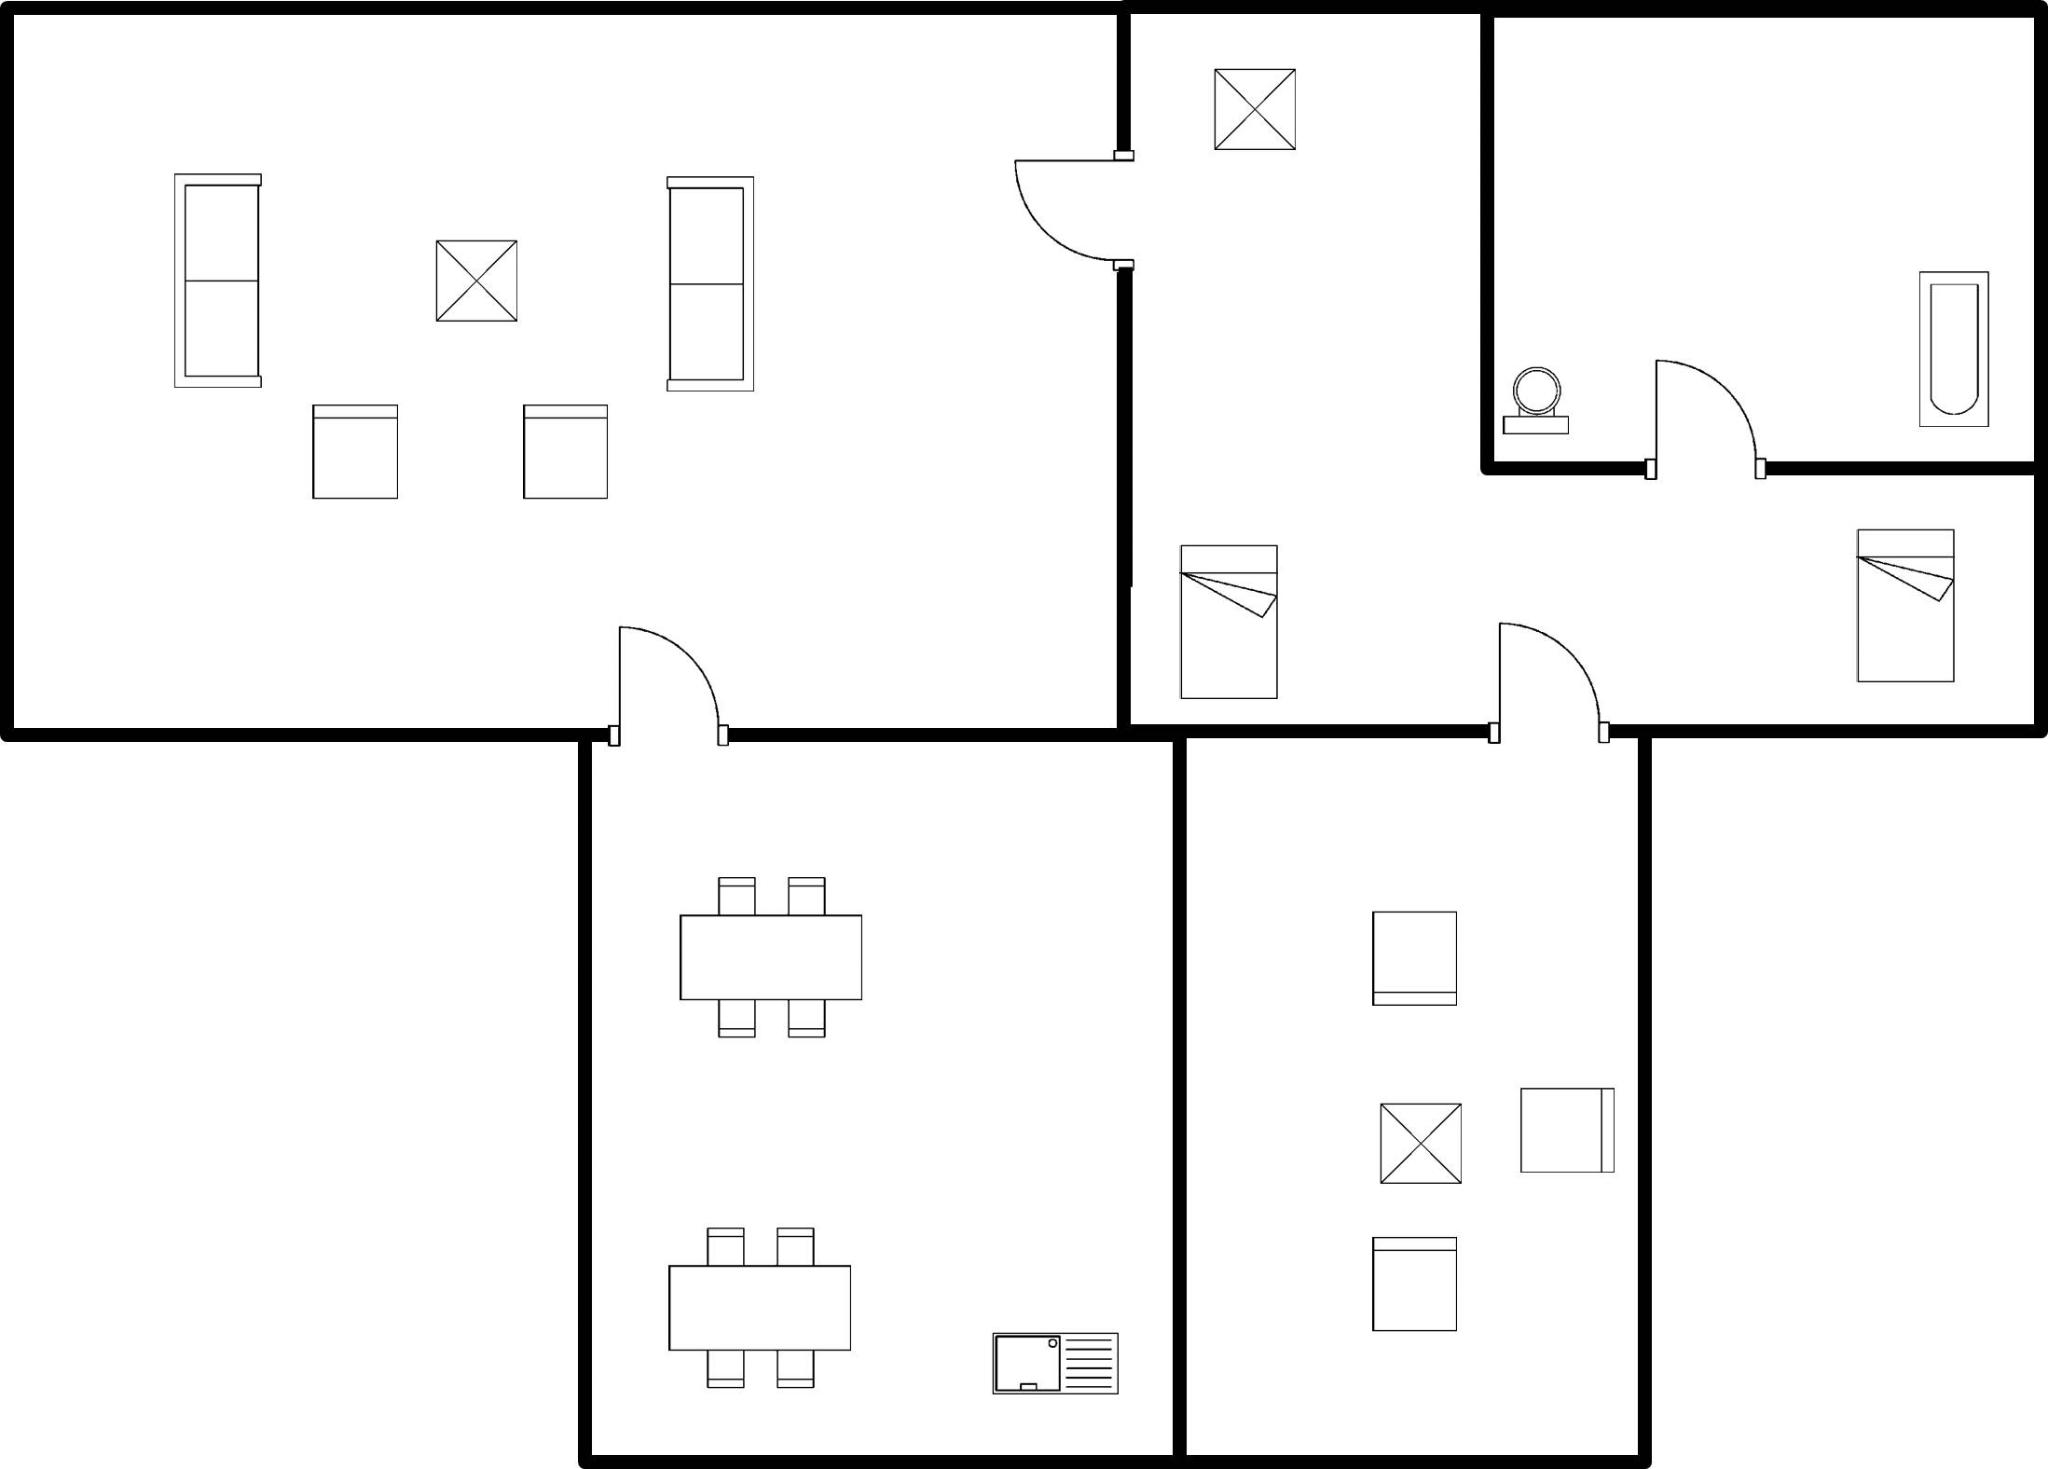bed: (1846, 517, 1964, 698), (1166, 536, 1288, 709)
dining_table: (665, 862, 871, 1048), (655, 1215, 863, 1396)
sink: (981, 1323, 1127, 1407)
sofa: (649, 159, 765, 399), (164, 154, 273, 401)
toilet: (1493, 359, 1576, 444)
tub: (1905, 259, 1999, 437)
